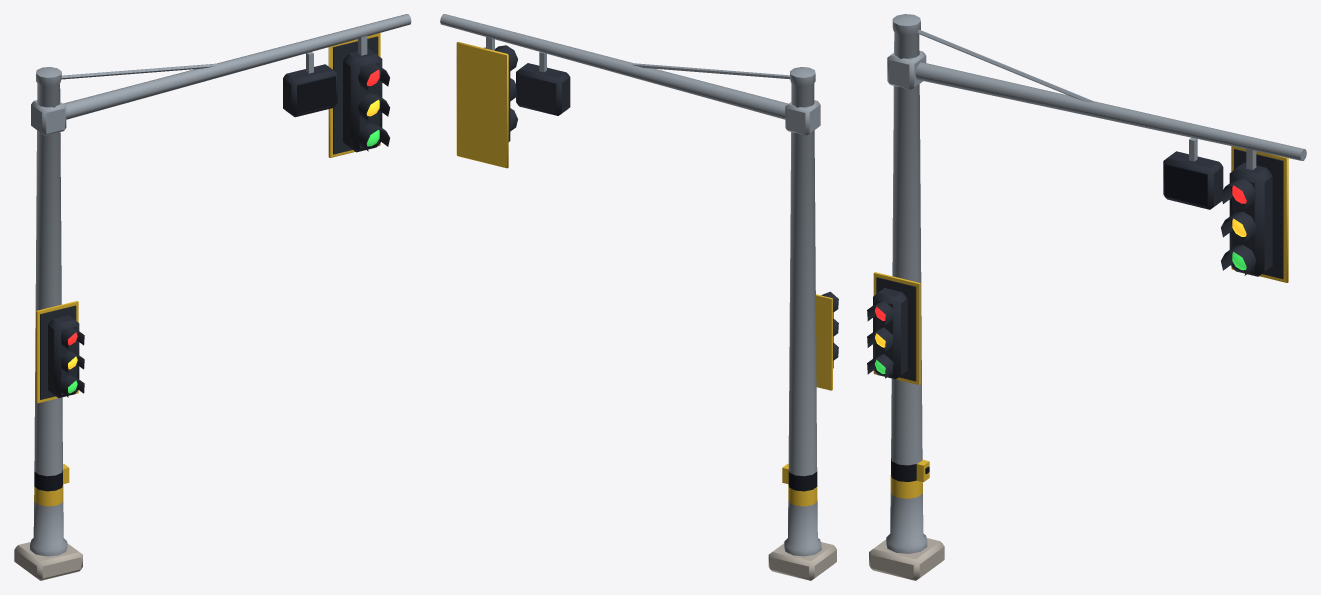
Rendered from prop_traffic_light.glb.
3 views of the same model, side by side, from view 1: azimuth 30°, elevation 25°; view 2: azimuth 150°, elevation 25°; view 3: azimuth 330°, elevation 25° (orthographic). The views are drawn at different scales.
Parts seen in each view (by area): view 1: body, countdown; view 2: body; view 3: body, countdown.
Boxes of the visible parts, <box> form: body: <box>14,14,411,580</box>; countdown: <box>297,76,335,114</box>; body: <box>440,14,838,580</box>; body: <box>867,14,1306,580</box>; countdown: <box>1164,165,1207,206</box>.
Size of the model in its own units: 5.32 by 6.62 by 0.984.
